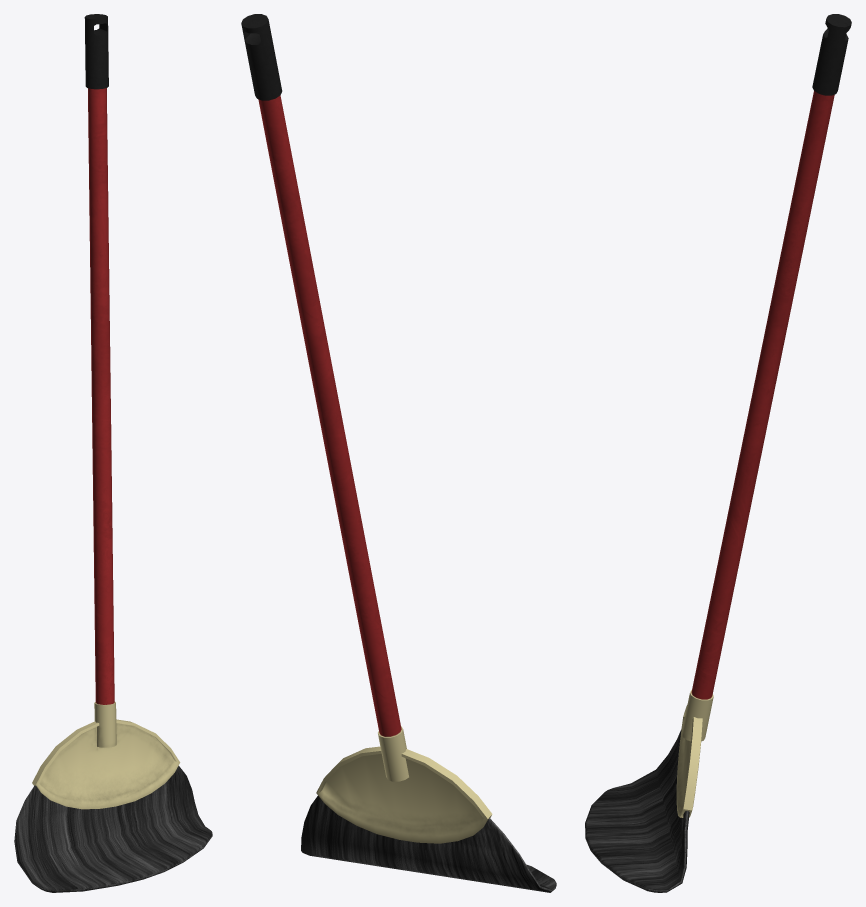
File: broom.FBX
3 views of the same model, side by side, from view 1: azimuth 30°, elevation 25°; view 2: azimuth 150°, elevation 25°; view 3: azimuth 270°, elevation 25° (orthographic). The views are drawn at different scales.
Parts seen in each view (by area): view 1: broom; view 2: broom; view 3: broom.
Part boxes in pixels (x1,y1,x2,y2): broom: (14,14,212,892); broom: (241,14,556,892); broom: (585,14,851,892).
Bounding box in the file's own units: 35.37 × 135 × 38.02.
1 material, 1 textured.
